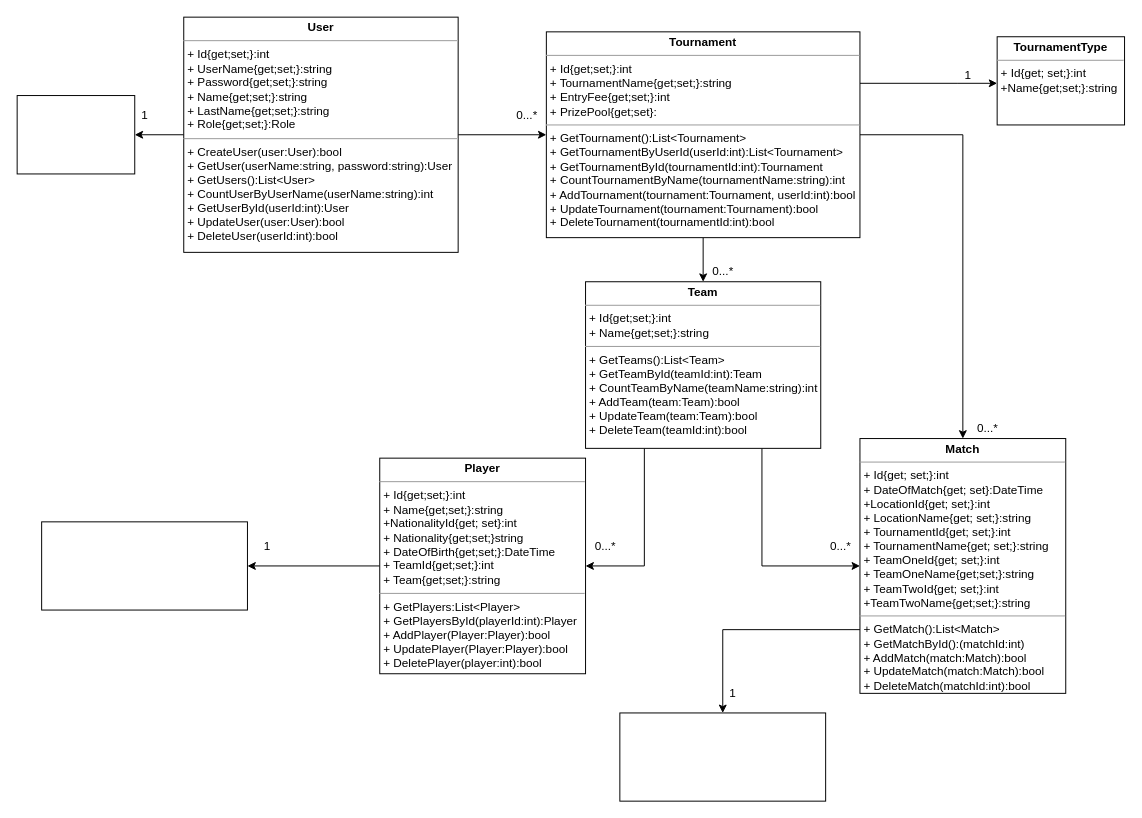
Some shapes in this 1142 by 818 pixel diagram are drawn without their labels. The box of each missing label's shape, as (x1, y1, x2, y2) in pixels:
<<Enumaration>> Role ADMIN, USER: (16, 95, 135, 174)
Location + Id{get; set;}:int +Name{get;set;}:string: (619, 712, 826, 801)
Nationality + Id{get; set;}:int +Name{get;set;}:string: (41, 521, 247, 610)
